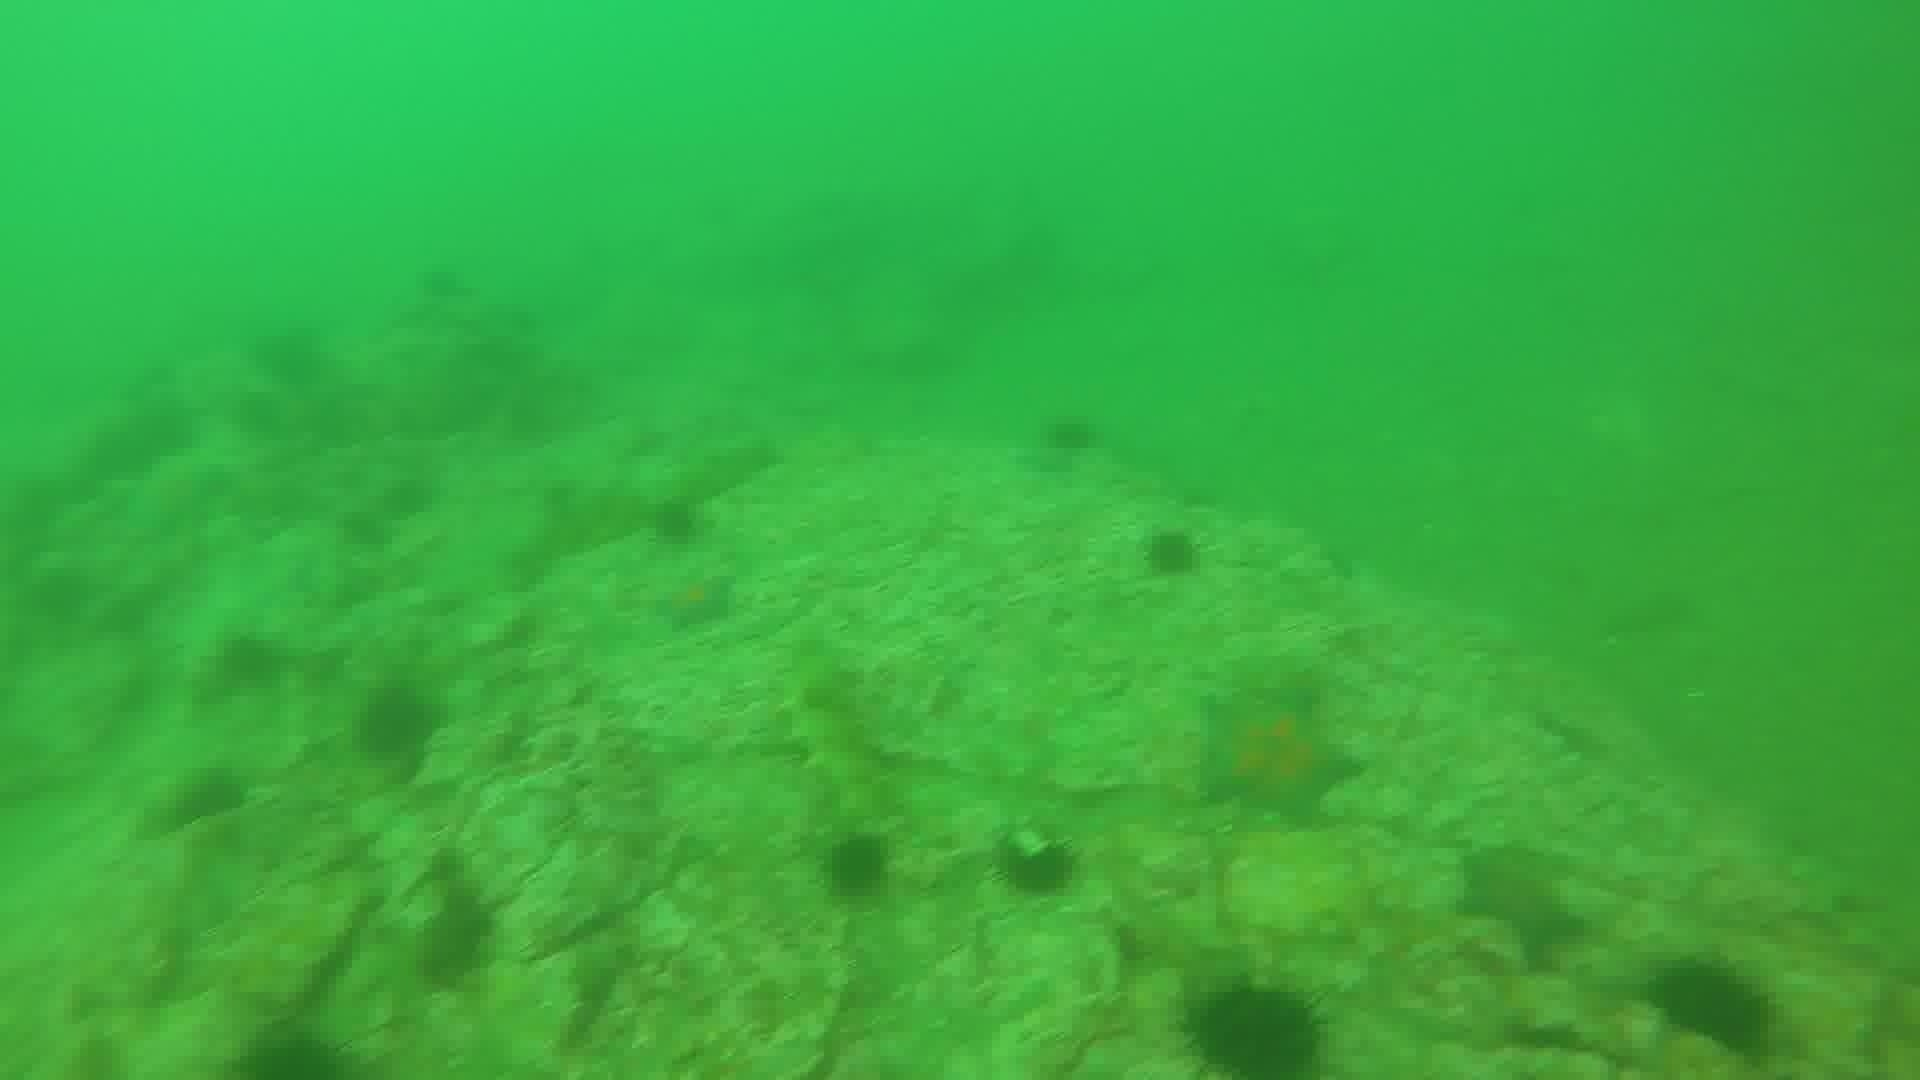echinus: (1179, 976, 1331, 1075), (1646, 955, 1779, 1059), (411, 887, 498, 990), (351, 679, 444, 766), (149, 764, 252, 843), (231, 1021, 355, 1077), (992, 829, 1081, 902), (818, 828, 897, 903), (208, 629, 287, 698), (1137, 524, 1207, 583), (1036, 407, 1102, 463), (645, 495, 708, 551)
holothurian: (773, 636, 890, 820)
starfish: (1191, 676, 1365, 825), (1453, 843, 1592, 964), (113, 448, 233, 542), (645, 566, 741, 634)
